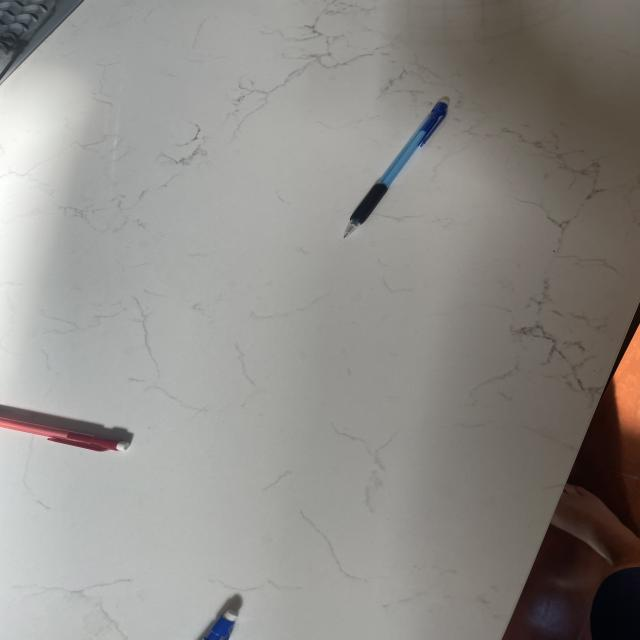mechanical-pencils: (344, 100, 457, 237), (1, 417, 137, 459), (203, 606, 249, 640)
